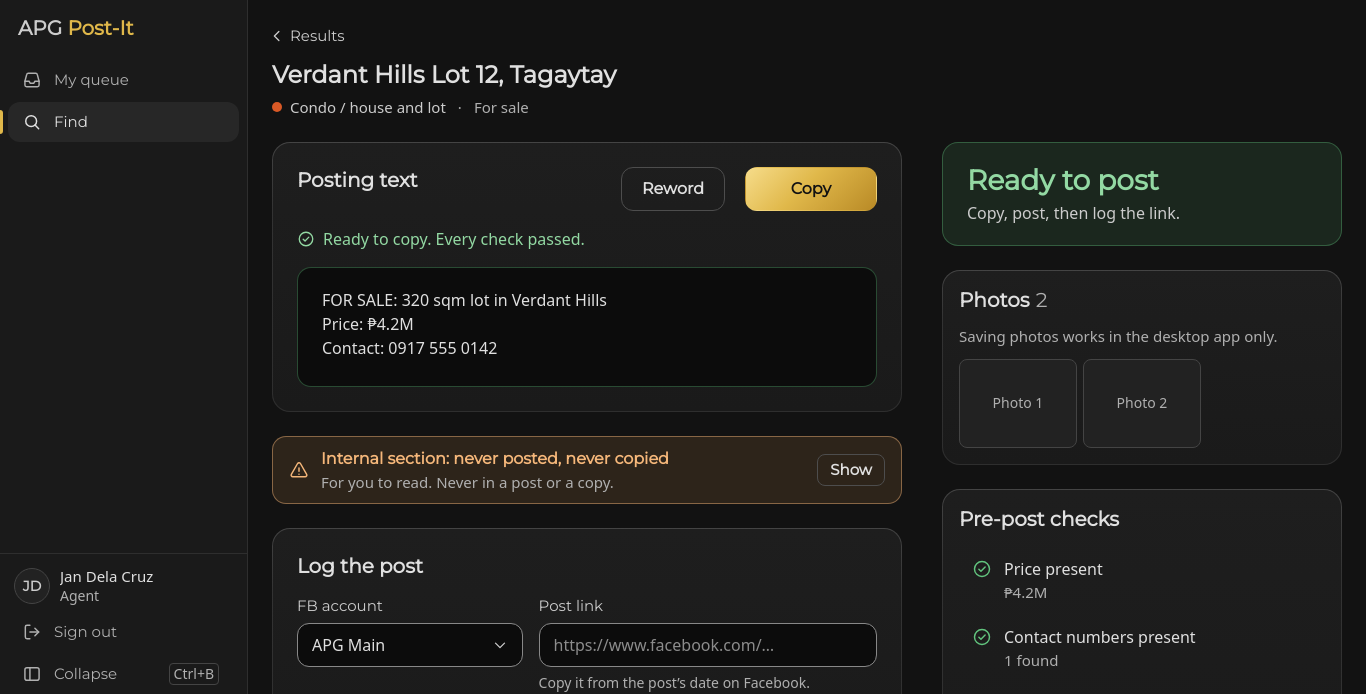
Test: rewording with Claude › won't let a reword with commission wording be chosen
The width and height of the screenshot is (1366, 694).
Expected: the text "Ready to copy. Every check passed." is shown, left=323, top=227, right=585, bottom=251
Click the button "Reword" at x=673, y=189, box left=621, top=167, right=725, bottom=211
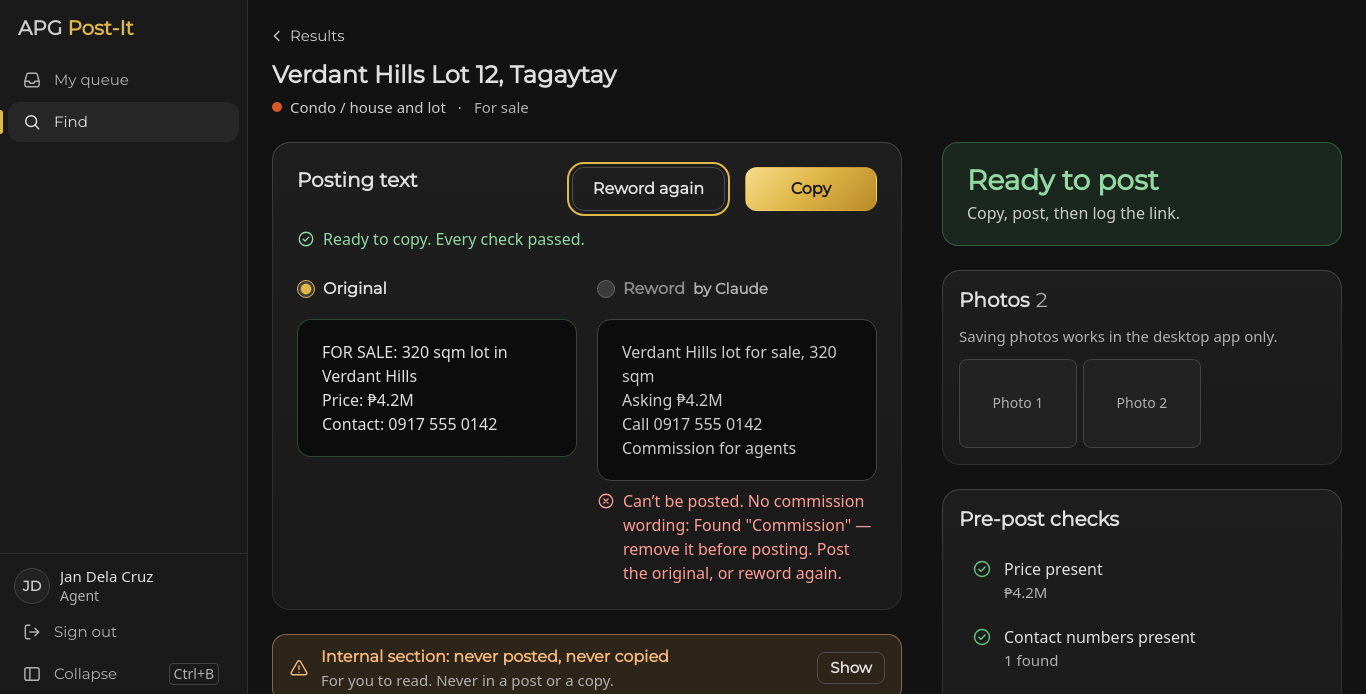
Expected: the radio button labelled "Reword by Claude" is disabled, left=597, top=280, right=615, bottom=298
Expected: the text "Can’t be posted. No commission wording: Found \"Commission\"" is shown, left=623, top=489, right=877, bottom=585
